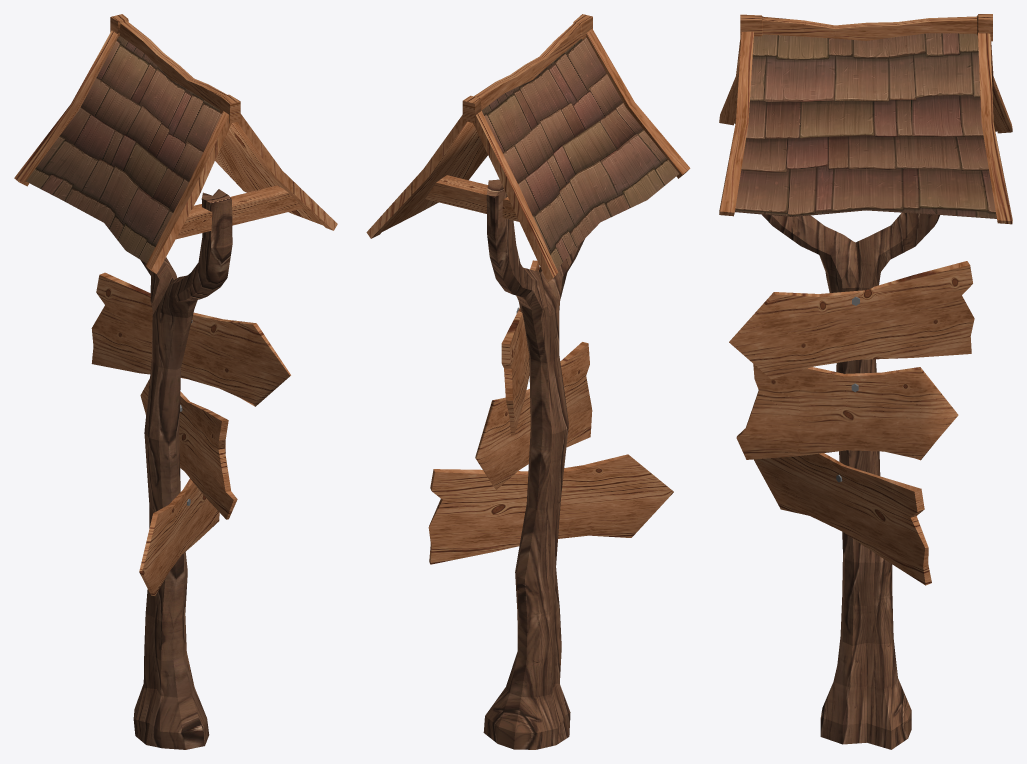
The model's file is rozcesnik.fbx.
3 views of the same model, side by side, from view 1: azimuth 30°, elevation 25°; view 2: azimuth 150°, elevation 25°; view 3: azimuth 270°, elevation 25° (orthographic). The views are drawn at different scales.
Visible parts, largest first — view 1: pPlane1, pCylinder1, pasted__pCube2, pCube2, pasted__pasted__pCube2, pasted__pCube3, pasted__pCube4; view 2: pPlane1, pCylinder1, pasted__pasted__pCube2, pCube2, pasted__pCube3, pasted__pCube2, pCube4; view 3: pPlane1, pCylinder1, pasted__pCube2, pCube2, pasted__pasted__pCube2, pasted__pCube3.
Boxes of the visible parts, box(x1,y1,x2,y2) form: pPlane1: box(14, 30, 337, 273); pCylinder1: box(133, 189, 232, 749); pasted__pCube2: box(91, 272, 290, 406); pCube2: box(140, 378, 237, 519); pasted__pasted__pCube2: box(139, 442, 225, 595); pasted__pCube3: box(110, 14, 240, 123); pasted__pCube4: box(176, 185, 303, 239); pPlane1: box(366, 28, 690, 281); pCylinder1: box(483, 179, 584, 749); pasted__pasted__pCube2: box(428, 454, 673, 564); pCube2: box(475, 342, 592, 489); pasted__pCube3: box(462, 14, 592, 123); pasted__pCube2: box(501, 260, 539, 435); pCube4: box(425, 175, 519, 221); pPlane1: box(719, 31, 1012, 224); pCylinder1: box(761, 212, 939, 749); pasted__pCube2: box(729, 261, 974, 379); pCube2: box(736, 364, 958, 460); pasted__pasted__pCube2: box(753, 453, 931, 585); pasted__pCube3: box(740, 14, 992, 41).
Bounding box in the file's own units: 10.27 × 35.39 × 13.15.
4 materials, 3 textured.
